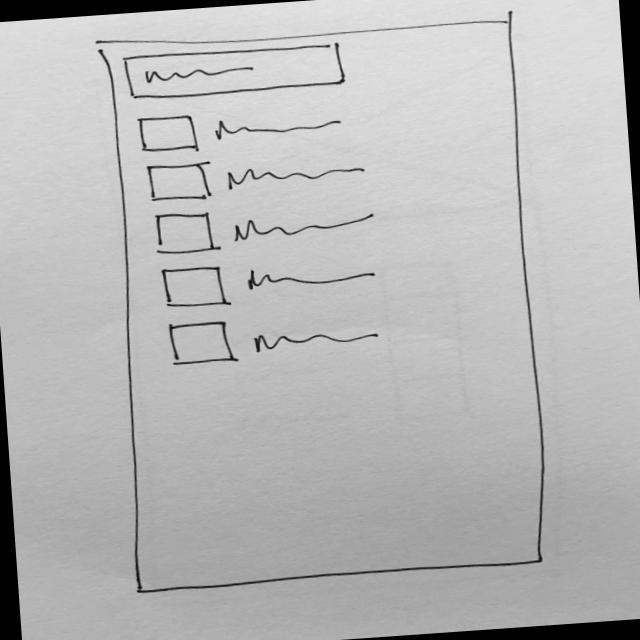checkbox: (150, 198, 383, 261), (161, 306, 386, 370), (158, 253, 386, 314), (142, 147, 373, 206), (134, 101, 351, 157)
container: (84, 7, 565, 599)
input: (119, 38, 353, 106)
